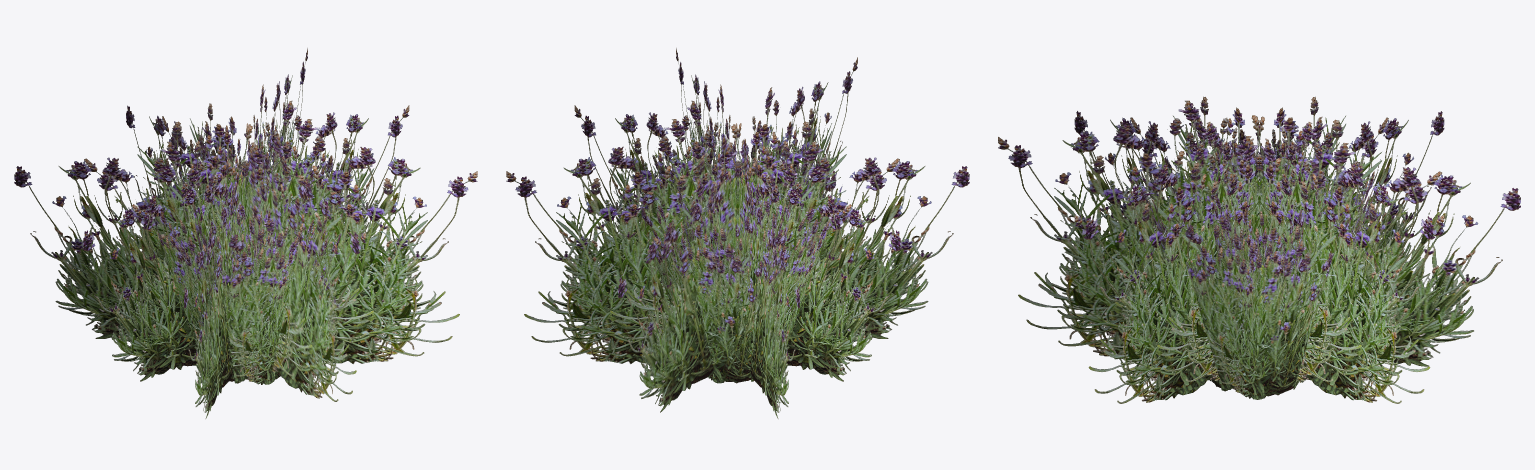
Rendered from lavenderBush.dae.
3 renders of one model, left to right at view 1: azimuth 30°, elevation 25°; view 2: azimuth 150°, elevation 25°; view 3: azimuth 270°, elevation 25°, orthographic. The views are drawn at different scales.
Parts seen in each view (by area): view 1: LavenderBush; view 2: LavenderBush; view 3: LavenderBush.
Boxes of the visible parts, <box> form: LavenderBush: <box>14,48,477,418</box>; LavenderBush: <box>506,48,969,418</box>; LavenderBush: <box>998,96,1520,403</box>.
Bounding box in the file's own units: 0.8893 × 0.6649 × 1.13.
Materials: 1 (1 with a texture image).
